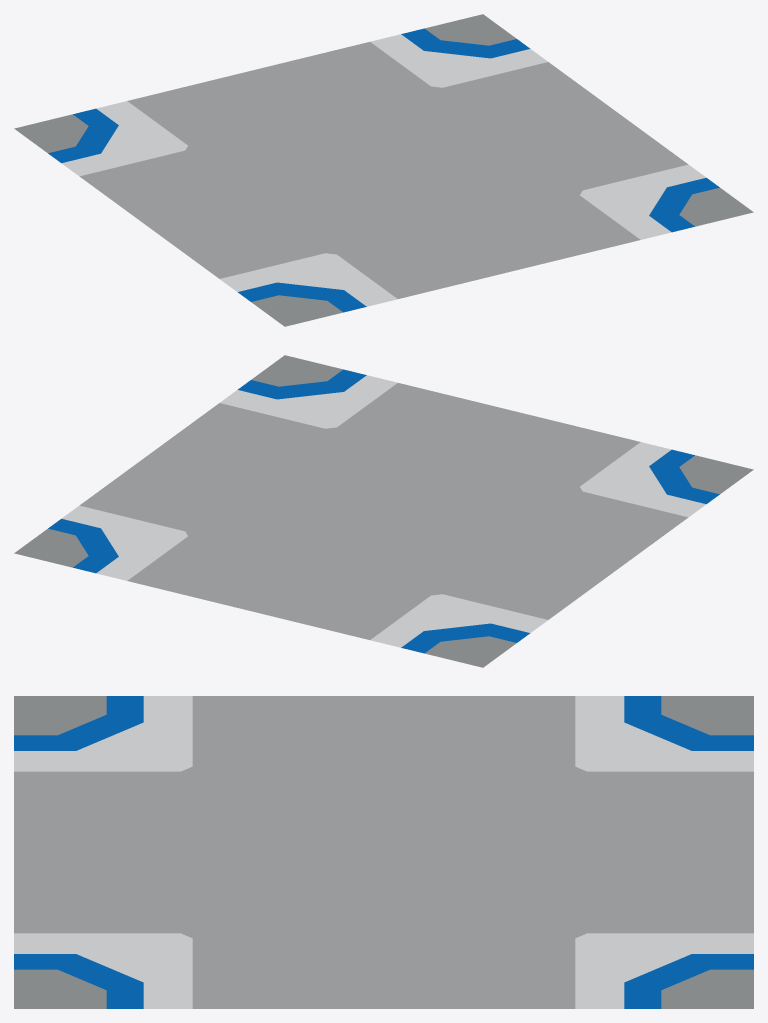
The model's file is Ceiling_type_A_032.fbx.
3 renders of one model, top to bottom at view 1: azimuth 30°, elevation 25°; view 2: azimuth 150°, elevation 25°; view 3: azimuth 270°, elevation 25°, orthographic. The views are drawn at different scales.
Visible parts, largest first — view 1: Ceiling_type_A_032; view 2: Ceiling_type_A_032; view 3: Ceiling_type_A_032.
Part boxes in pixels (left/top/right/bottom): Ceiling_type_A_032: left=14, top=14, right=753, bottom=326; Ceiling_type_A_032: left=14, top=355, right=753, bottom=667; Ceiling_type_A_032: left=14, top=696, right=753, bottom=1008.
Bounding box in the file's own units: 400 × 400 × 6.18.
